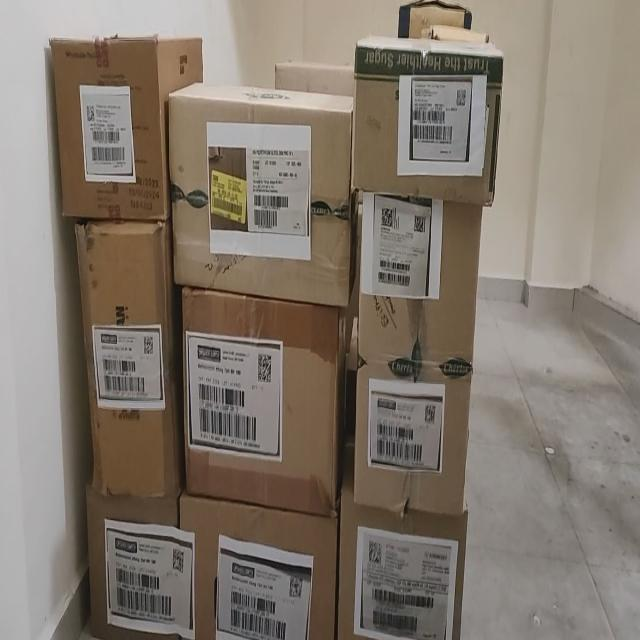BoxFace: (345, 183, 491, 517), (168, 80, 354, 308), (180, 286, 344, 516), (73, 218, 182, 498), (350, 33, 504, 206), (336, 441, 468, 637), (179, 488, 338, 638), (47, 37, 163, 221), (85, 481, 185, 637)
